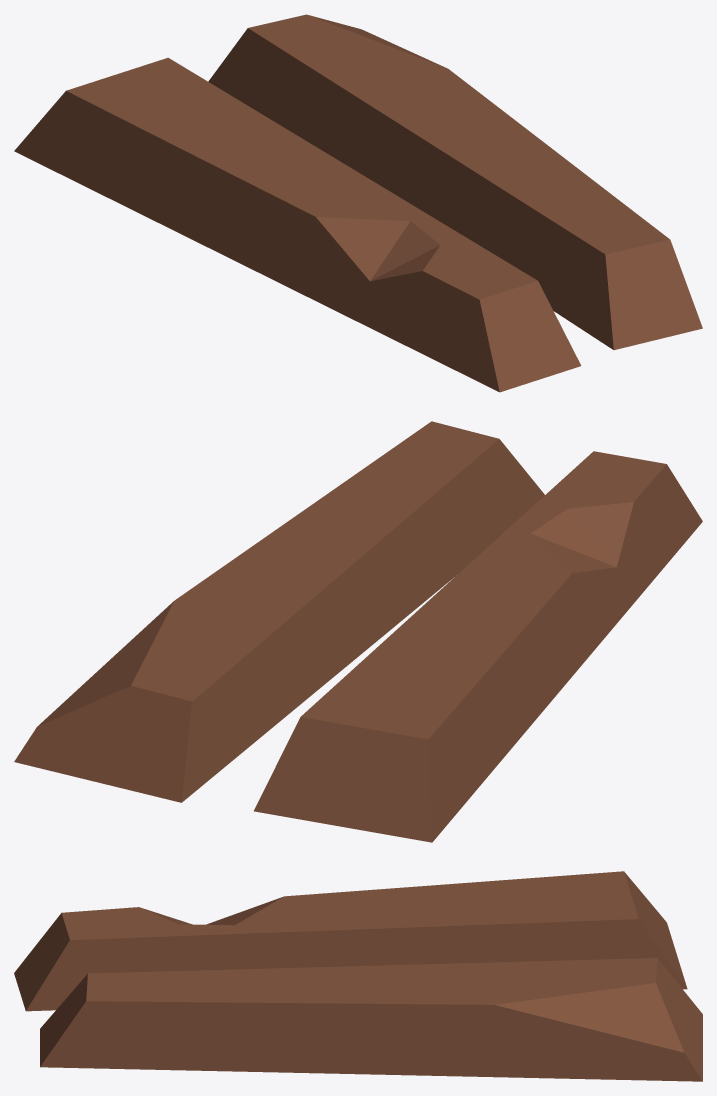
File: LPWarPack_FireWood2.fbx
3 renders of one model, top to bottom at view 1: azimuth 30°, elevation 25°; view 2: azimuth 150°, elevation 25°; view 3: azimuth 270°, elevation 25°, orthographic. The views are drawn at different scales.
Visible parts, largest first — view 1: FireWood2; view 2: FireWood2; view 3: FireWood2.
Boxes of the visible parts, <box> form: FireWood2: <box>14,14,702,392</box>; FireWood2: <box>14,421,702,842</box>; FireWood2: <box>14,871,702,1081</box>.
Bounding box in the file's own units: 38.88 × 7.21 × 71.12.
